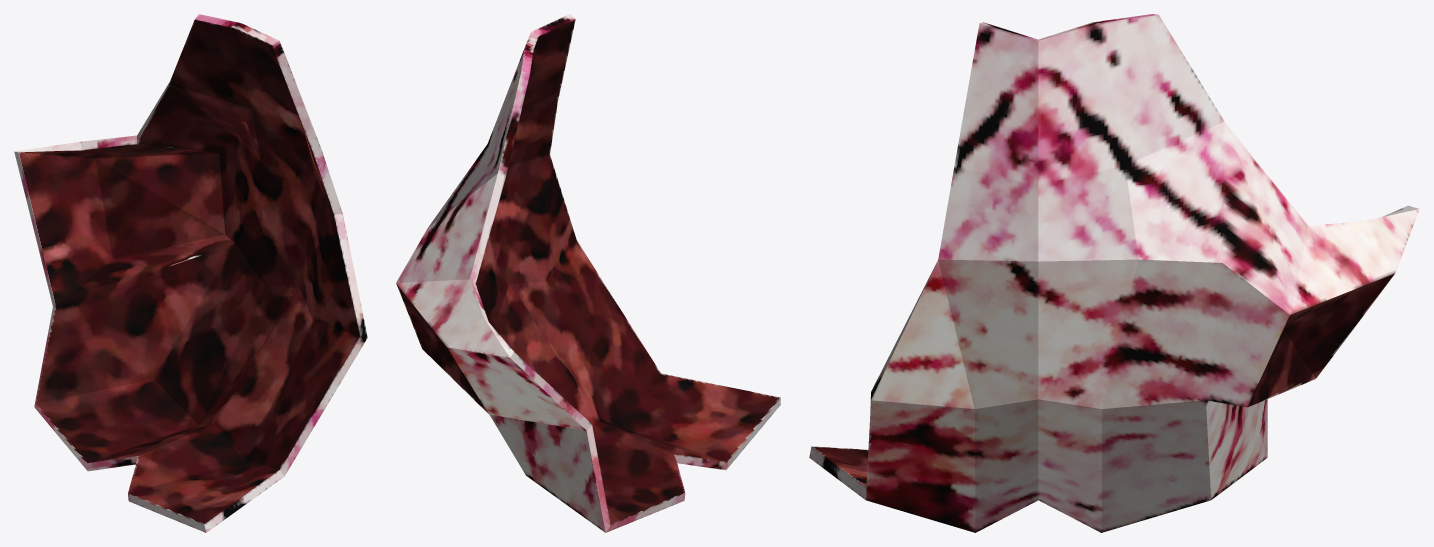
Rendered from TornSkull3.fbx.
3 renders of one model, left to right at view 1: azimuth 30°, elevation 25°; view 2: azimuth 150°, elevation 25°; view 3: azimuth 270°, elevation 25°, orthographic. The views are drawn at different scales.
Visible parts, largest first — view 1: TornSkull3; view 2: TornSkull3; view 3: TornSkull3.
Part boxes in pixels (left/top/right/bottom): TornSkull3: left=14, top=14, right=367, bottom=532; TornSkull3: left=396, top=14, right=780, bottom=532; TornSkull3: left=809, top=14, right=1419, bottom=532.
Size of the model in its own units: 255 by 463 by 469.
